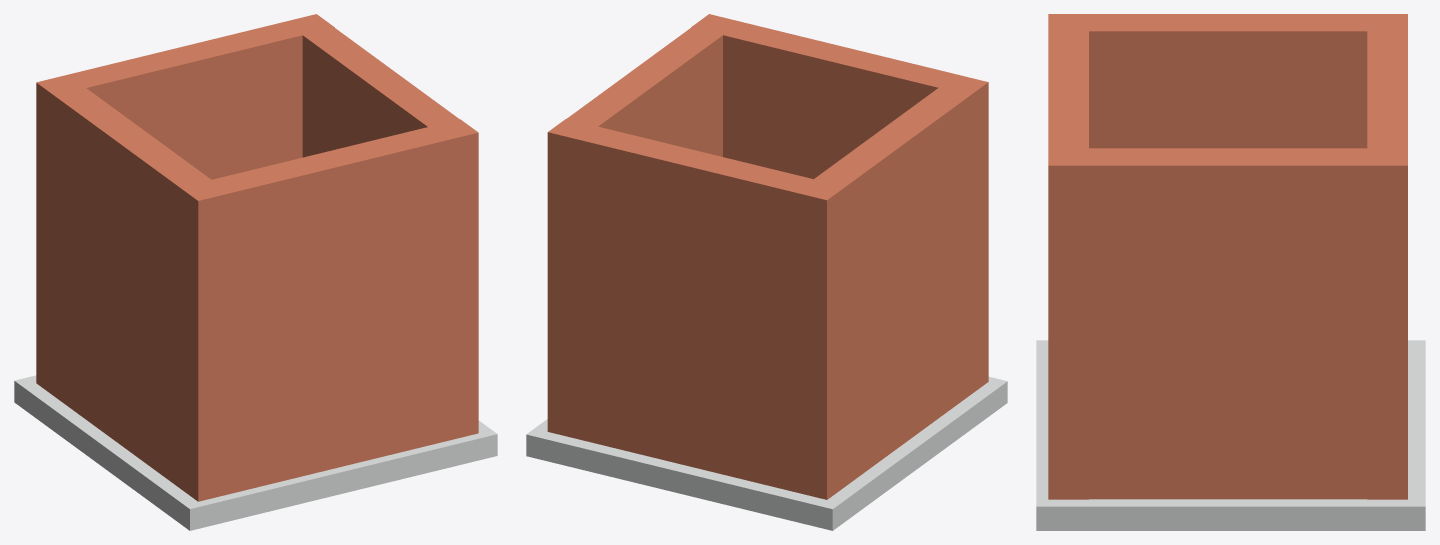
3 renders of one model, left to right at view 1: azimuth 30°, elevation 25°; view 2: azimuth 150°, elevation 25°; view 3: azimuth 270°, elevation 25°, orthographic. The views are drawn at different scales.
Parts seen in each view (by area): view 1: tek_duvar23; view 2: tek_duvar23; view 3: tek_duvar23.
Boxes of the visible parts, x1,y1,x2,y2 form: tek_duvar23: [14, 14, 497, 530]; tek_duvar23: [526, 14, 1007, 530]; tek_duvar23: [1036, 14, 1425, 530].
Size of the model in its own units: 1703 by 1706 by 1683.
